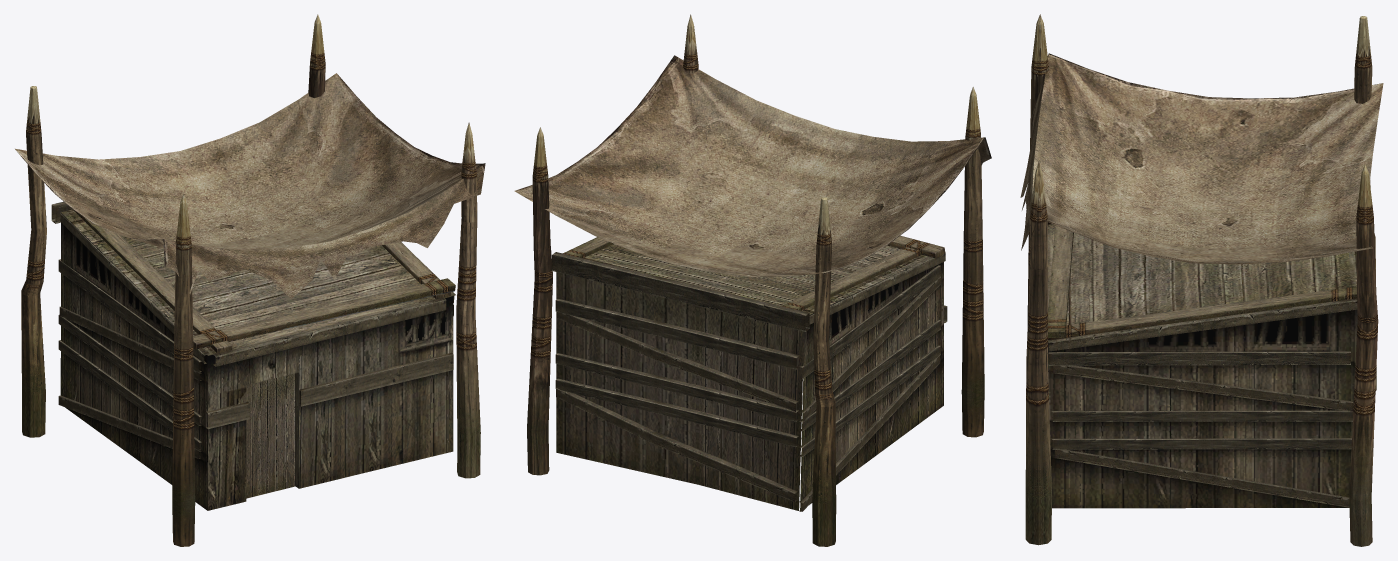
File: gaint_builda_09.fbx
3 renders of one model, left to right at view 1: azimuth 30°, elevation 25°; view 2: azimuth 150°, elevation 25°; view 3: azimuth 270°, elevation 25°, orthographic. The views are drawn at different scales.
Parts seen in each view (by area): view 1: Object07, Object02, Object05; view 2: Object07, Object02, Object05; view 3: Object07, Object02, Object05.
Part boxes in pixels (x1,y1,x2,y2): Object07: (51, 201, 455, 510); Object02: (15, 73, 485, 298); Object05: (21, 14, 480, 546); Object07: (552, 235, 947, 511); Object02: (514, 55, 991, 276); Object05: (527, 14, 984, 546); Object07: (1047, 222, 1357, 508); Object02: (1020, 53, 1383, 264); Object05: (1025, 14, 1378, 546).
Bounding box in the file's own units: 9.45 × 9.72 × 8.44.
